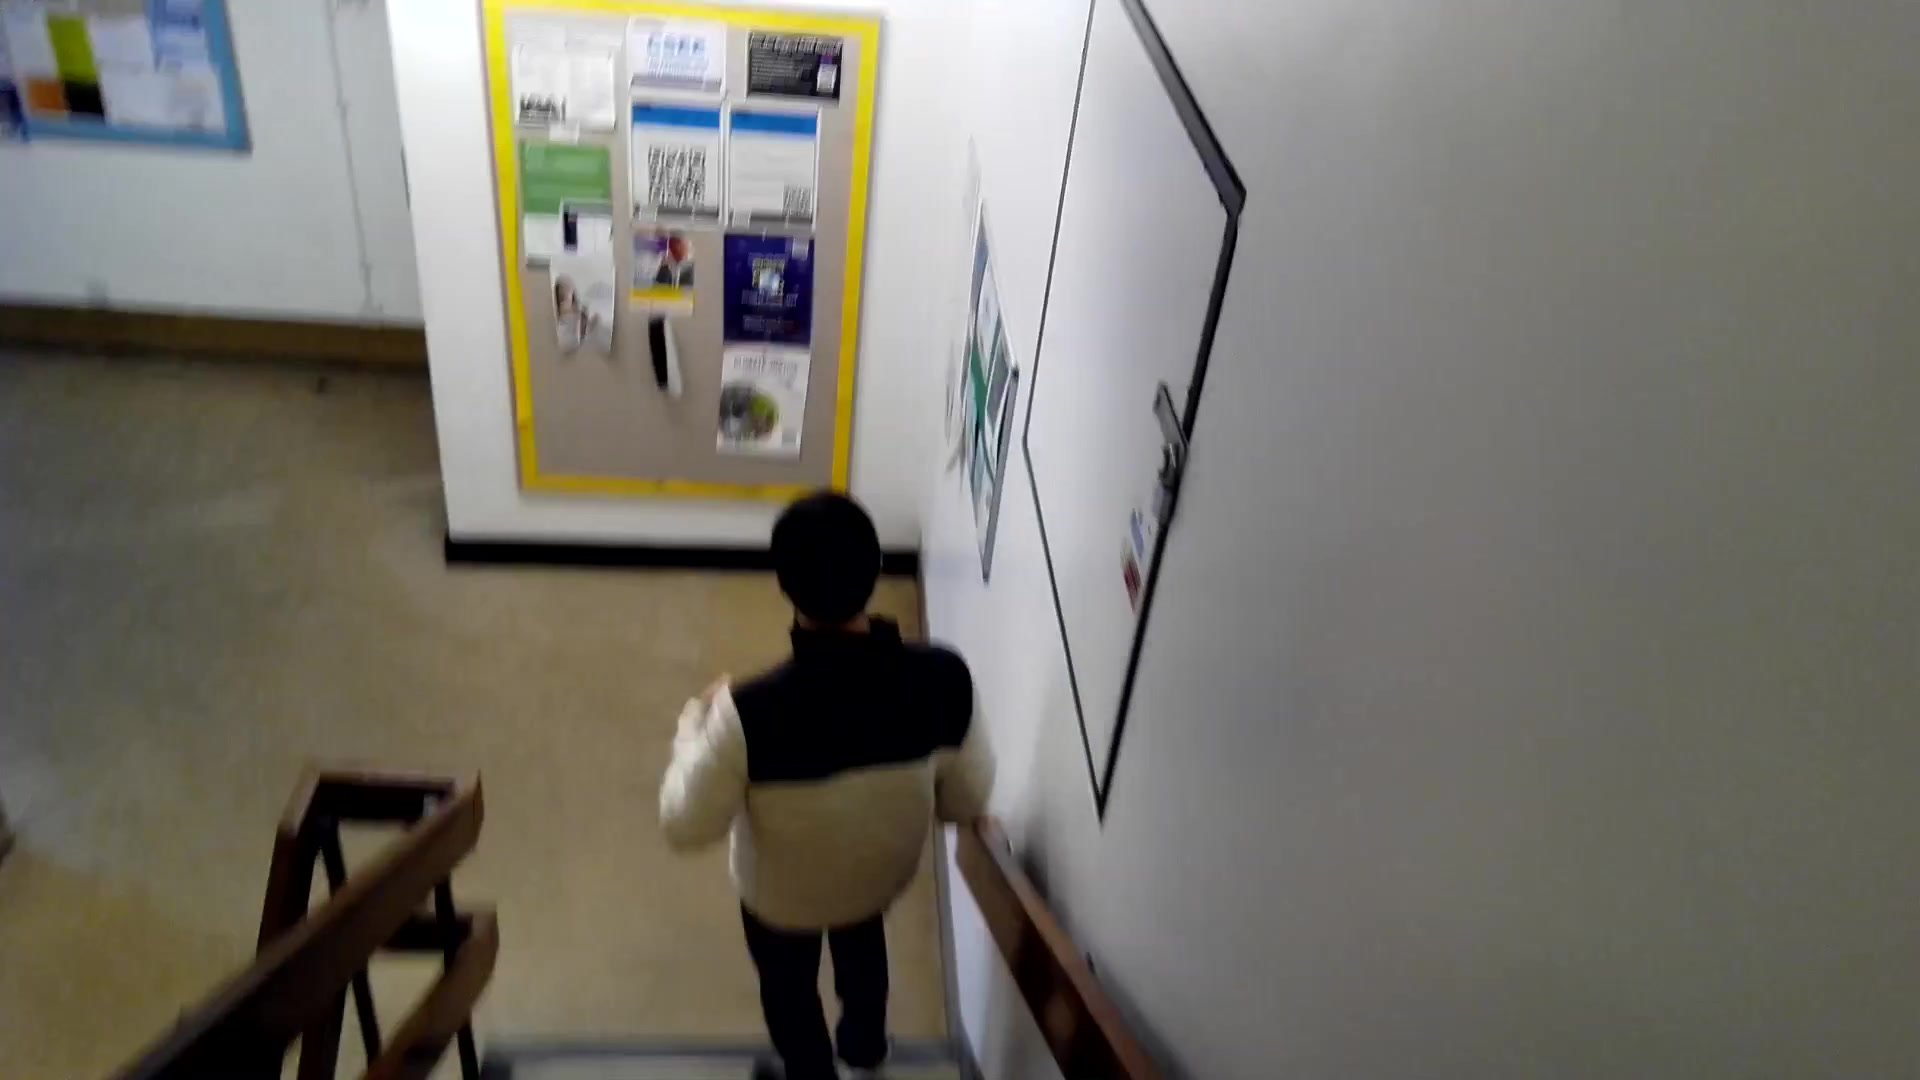Person: (716, 491, 980, 1080)
